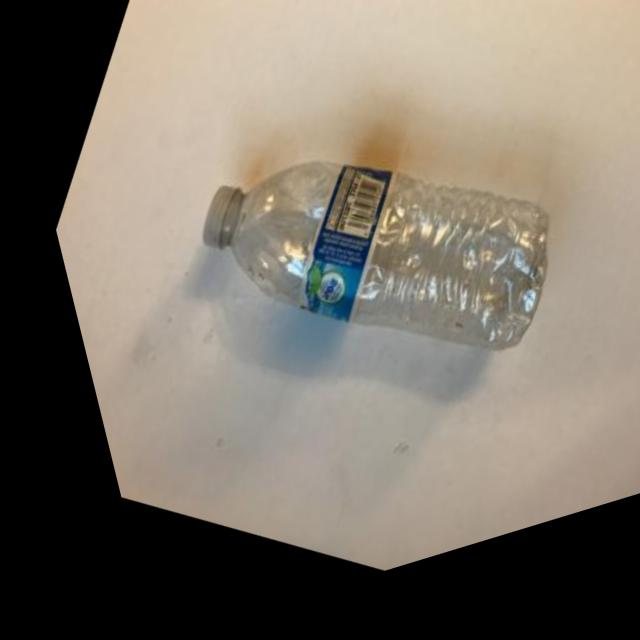plastic: (68, 4, 626, 546)
